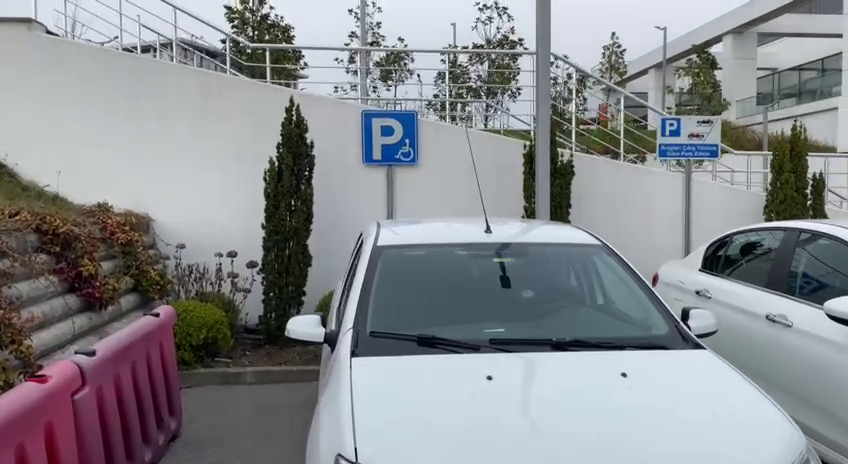parking: (361, 108, 420, 167), (659, 117, 682, 138)
